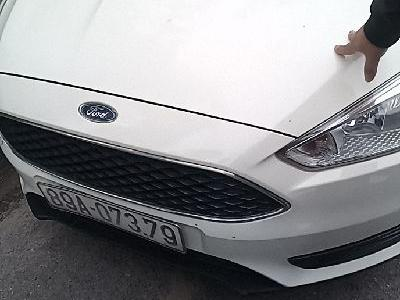car: (35, 181, 187, 256)
